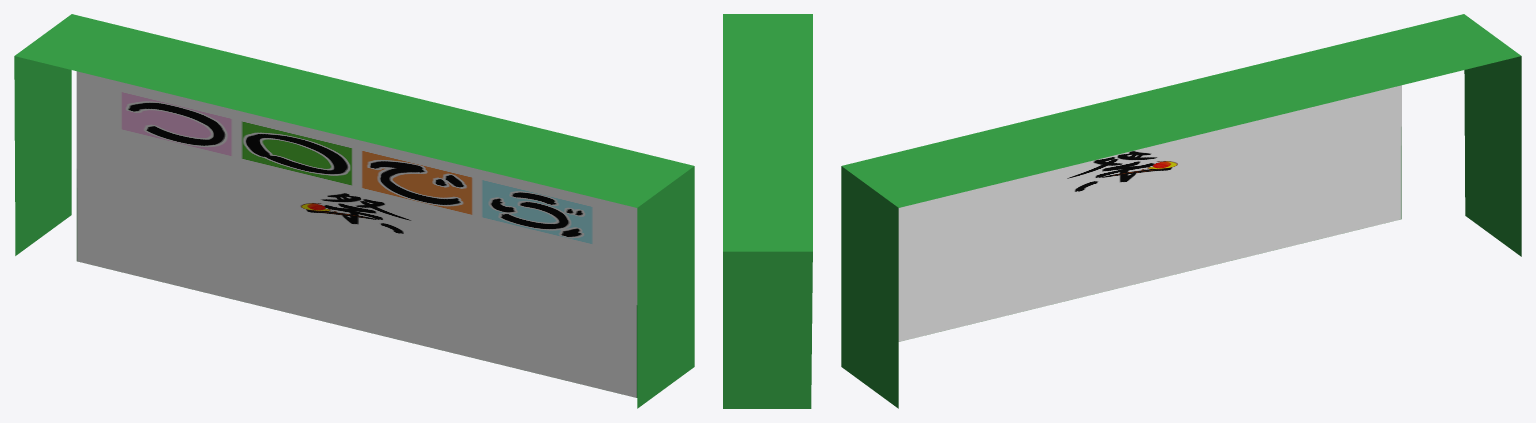
The model's file is Goal_Wall1.fbx.
3 views of the same model, side by side, from view 1: azimuth 30°, elevation 25°; view 2: azimuth 150°, elevation 25°; view 3: azimuth 270°, elevation 25° (orthographic). The views are drawn at different scales.
Parts seen in each view (by area): view 1: polySurface118; view 2: polySurface118; view 3: polySurface118.
Part boxes in pixels (bbox=[...]): polySurface118: bbox=[14, 14, 694, 408]; polySurface118: bbox=[723, 14, 812, 408]; polySurface118: bbox=[841, 14, 1521, 408].
Bounding box in the file's own units: 15.96 × 7.71 × 23.65.
Materials: 1 (1 with a texture image).
